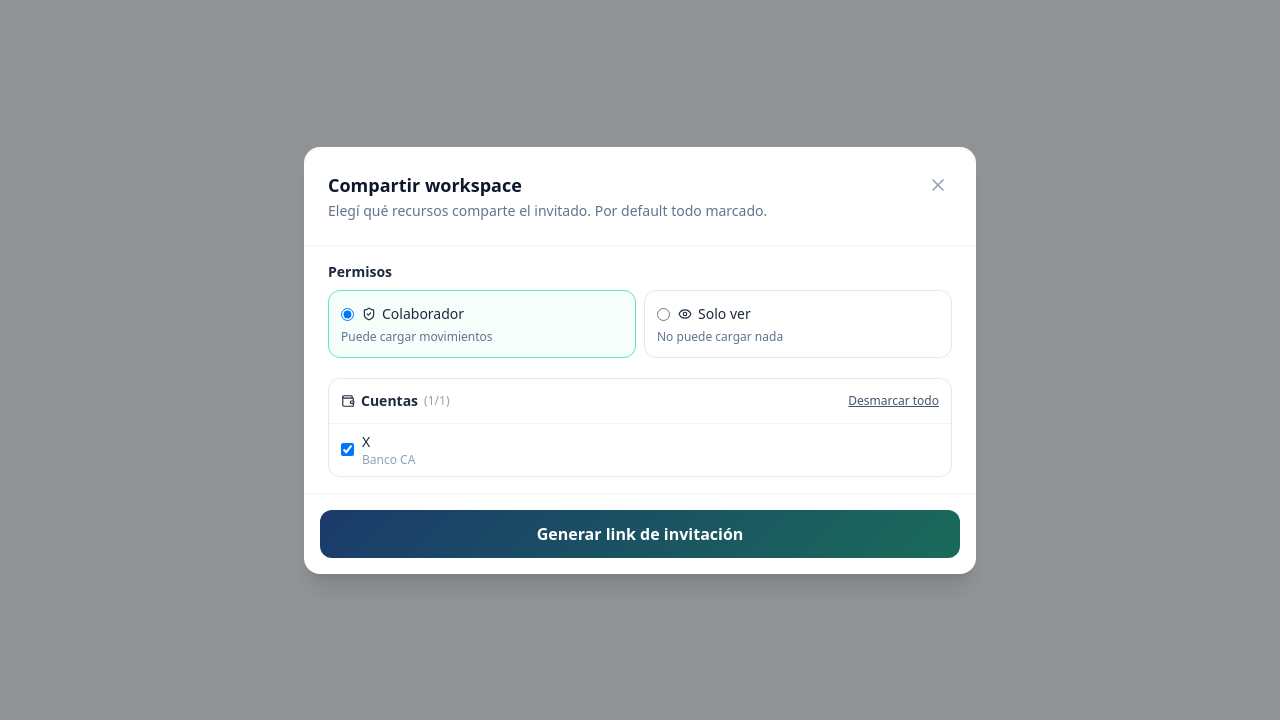
Test case: ShareWorkspaceModal — submit › error de Pro → muestra mensaje pertinente
Expected: the text "X" is shown, left=362, top=432, right=370, bottom=450
Click the button "Generar link de invitación". click: (640, 534)
box: left=320, top=510, right=960, bottom=558
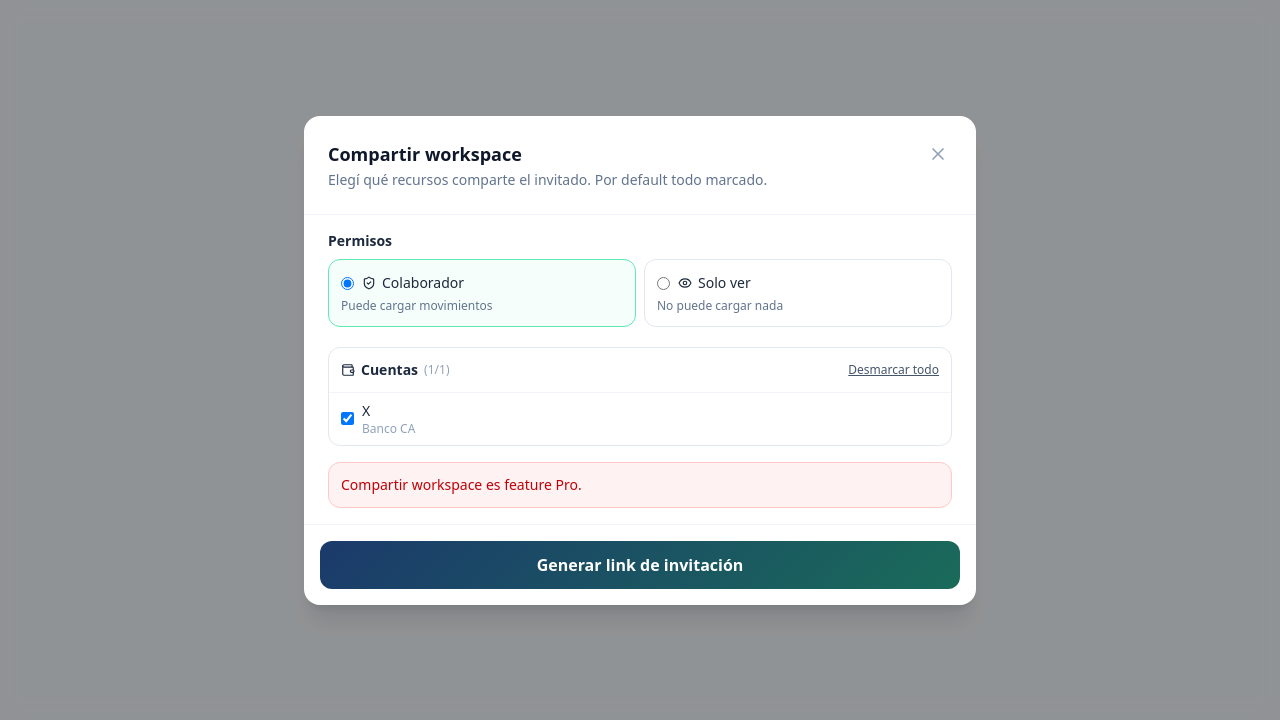
Expected: the text "Compartir workspace es feature Pro." is shown, left=328, top=462, right=952, bottom=508
